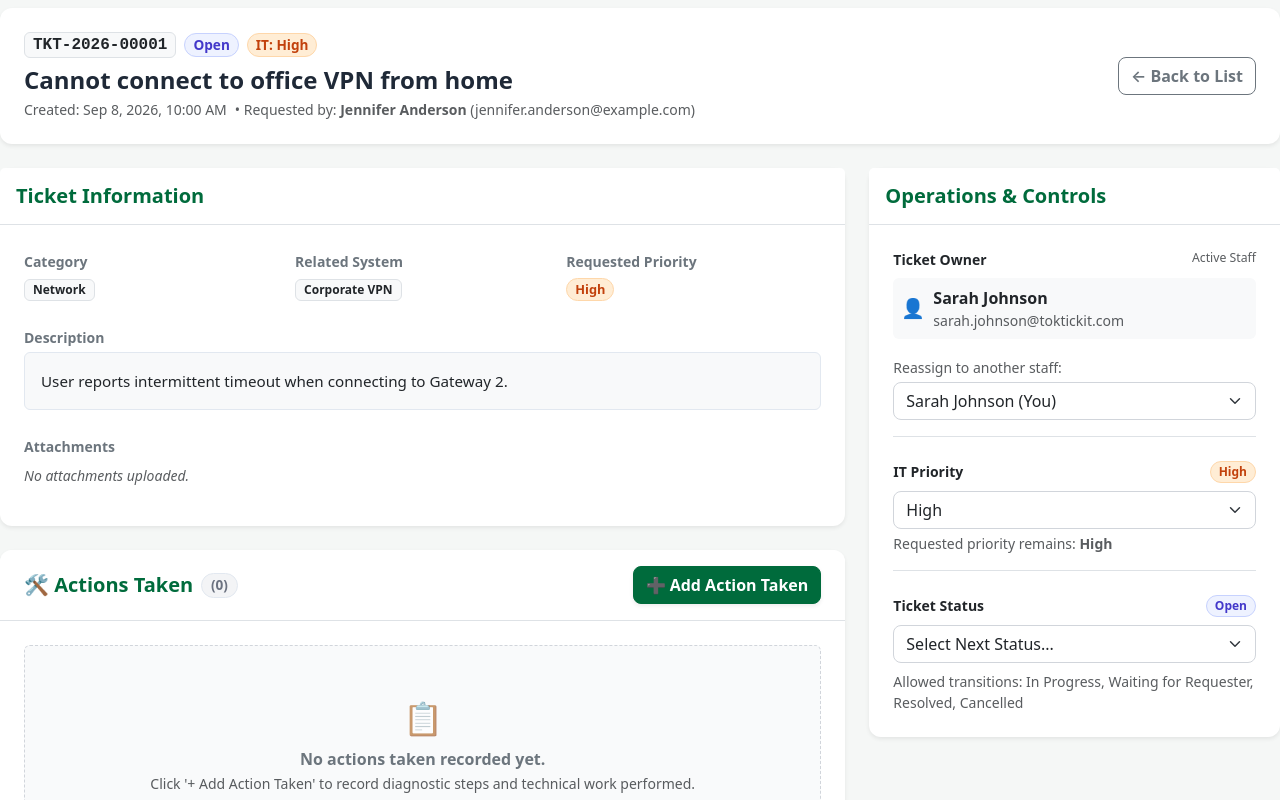
Test case: Lab 4 — Ticket Workflow, Resolution Gate & Concurrency UI Tests (Issue 4: #43) › UI-05: displays 409 Conflict Dialog Modal on stale update and refreshes data on button click
Expected: the heading "Cannot connect to office VPN from home" is shown, [24,63,513,96]
Note: Trigger transition which causes 409 Conflict
Select "➔ Change to: In Progress" in the dropdown with id "selectTicketStatus" at (1075, 644), box [893,625,1256,663]
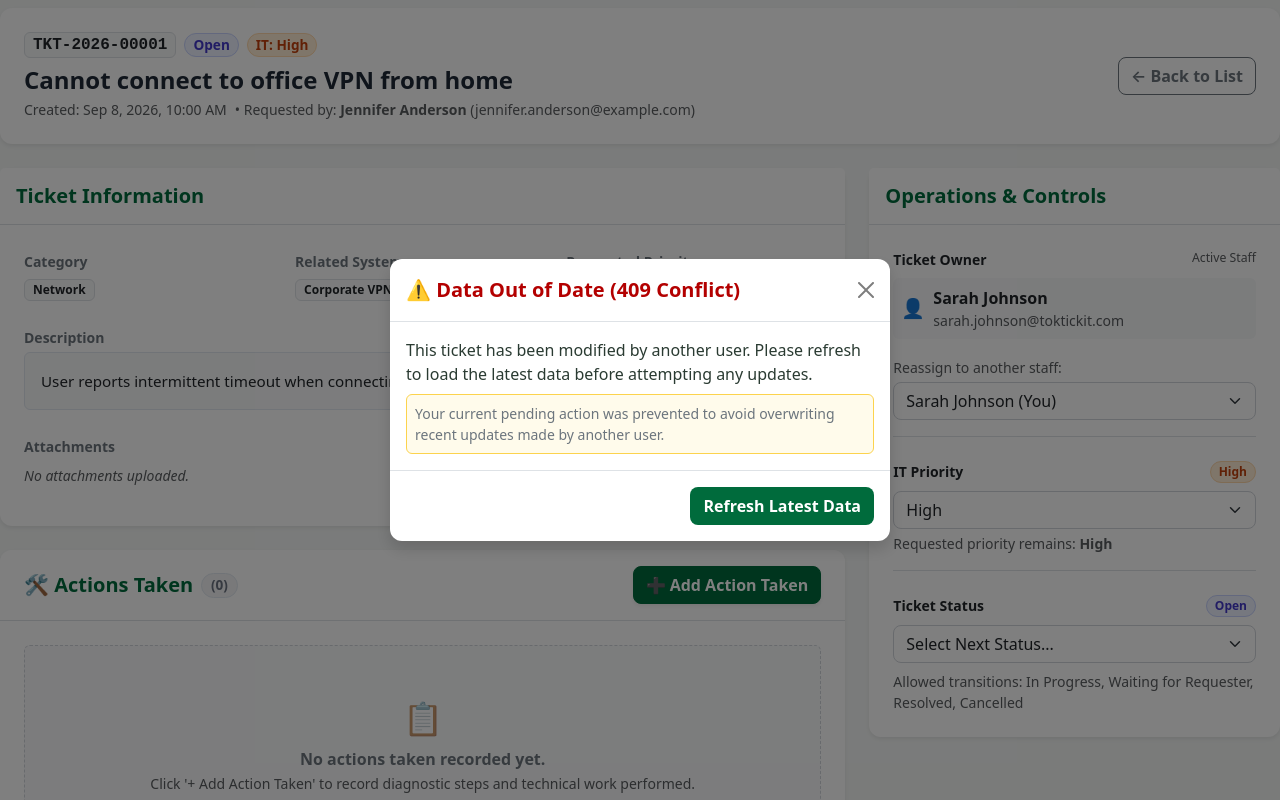
Now the heading "⚠️ Data Out of Date (409 Conflict)" is shown, box [406,275,740,305]
Now the text "This ticket has been modified by another user" is shown, box [406,339,861,385]
Now the button with id "btnRefreshConflict" is shown
Note: Click refresh button
Click the button with id "btnRefreshConflict" at (782, 506), box [690,487,874,525]
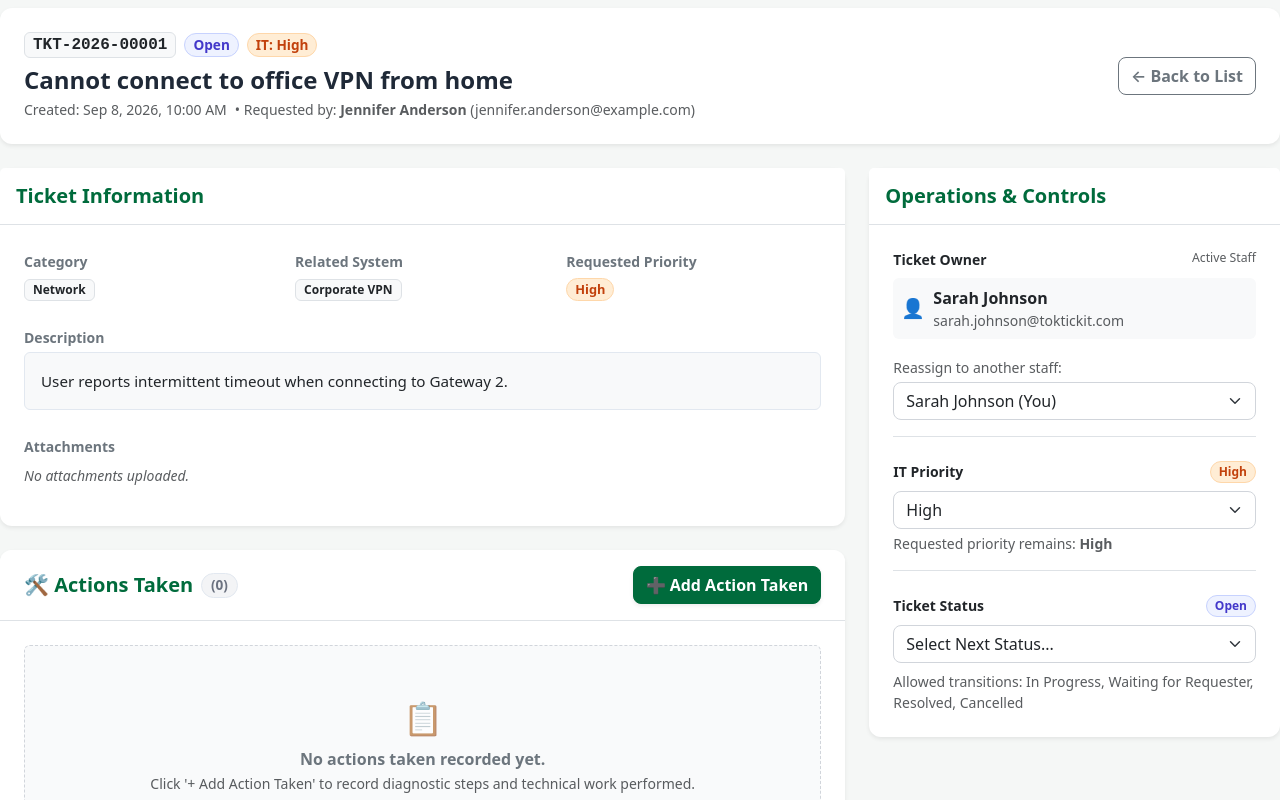
Now the heading "Data Out of Date (409 Conflict)" is gone
